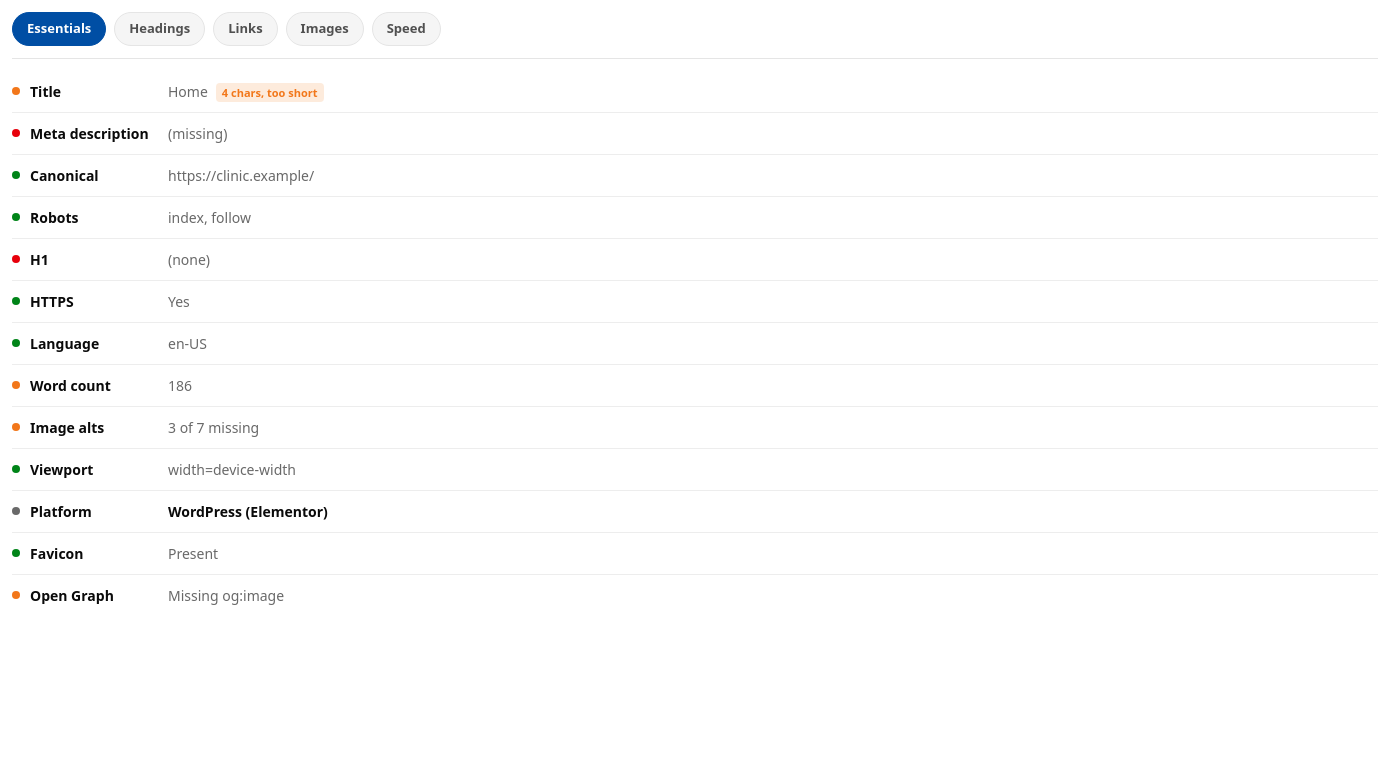
On-Page speed › explains when there is no PageSpeed data
Click the button "Speed".
click(406, 29)  # box [372,12,441,46]
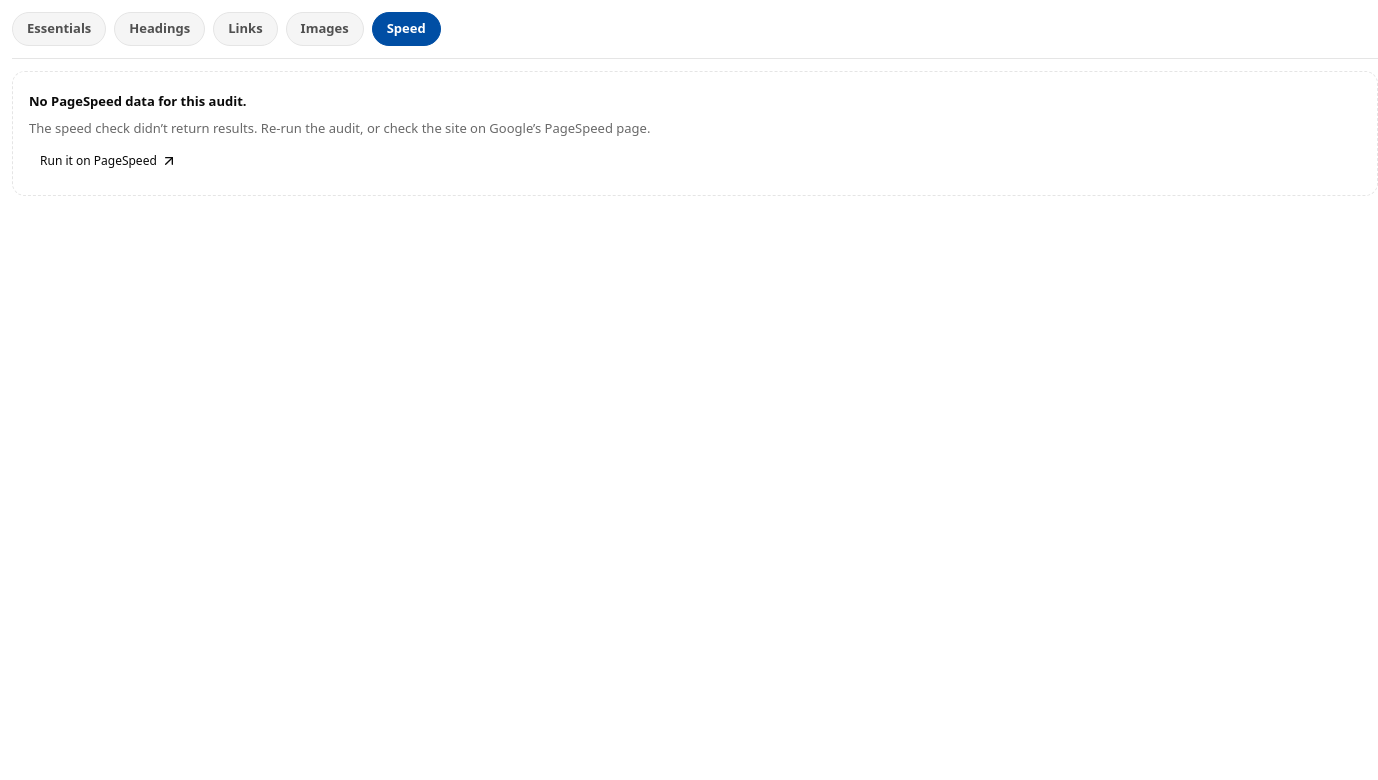
expect the text "No PageSpeed data for this audit." is shown: met, box [29,92,246,111]
expect the link "Run it on PageSpeed" is shown: met, box [29,146,188,174]
